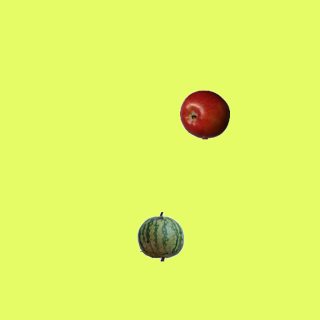Apple Braeburn: (179, 89, 229, 139)
Watermelon: (135, 211, 185, 261)
